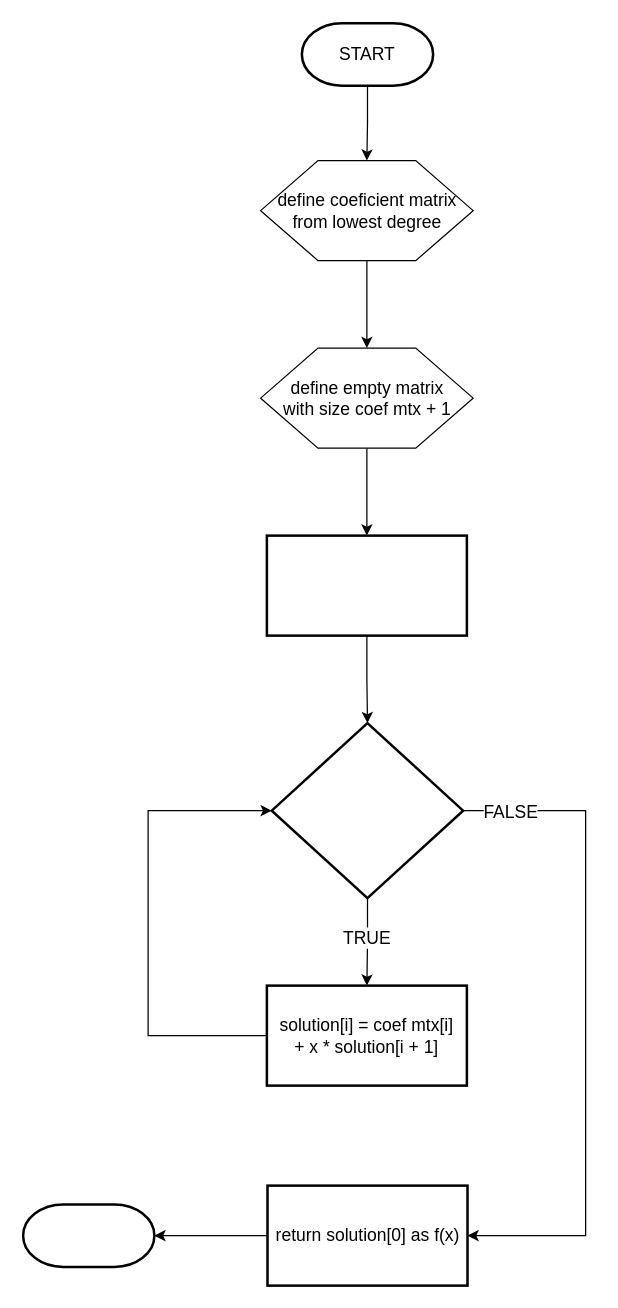
Some shapes in this 618 by 1308 pixel diagram are drawn without their labels. Each missing label, with the box of its shape:
END: (21, 1202, 155, 1268)
i = coef mtx size - 1 i >= 0: (270, 721, 464, 899)
solution[last index] = 0: (265, 534, 468, 636)
